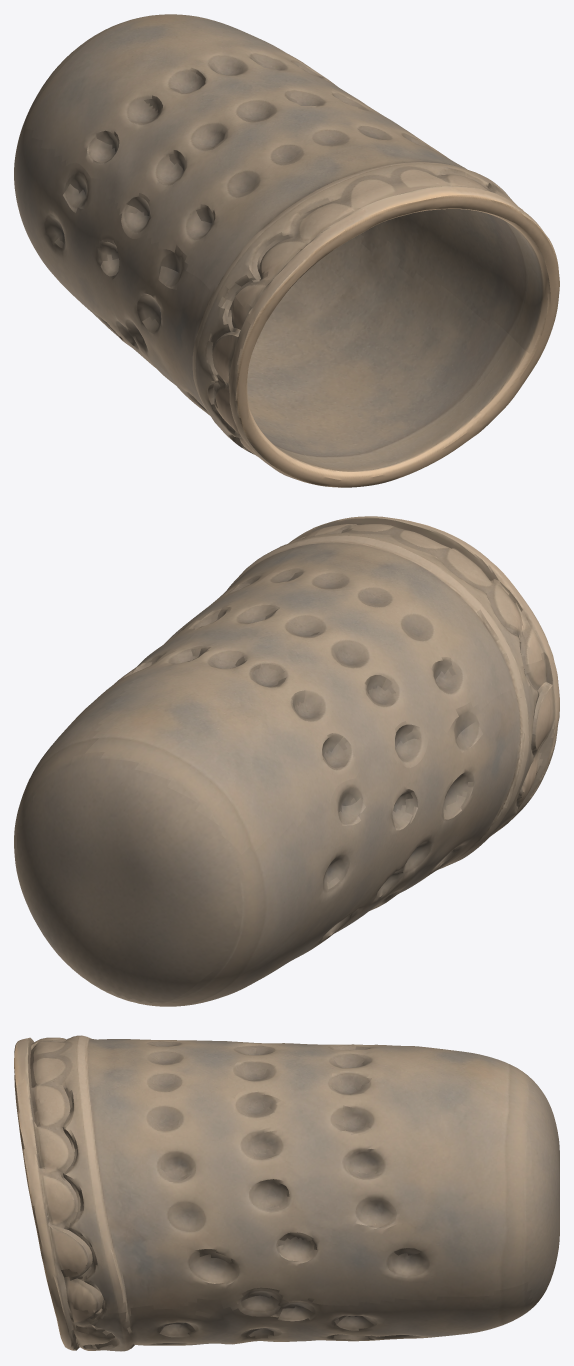
The model's file is Meshy_AI_Antique_Thimble_1122031836_texture.glb.
3 renders of one model, top to bottom at view 1: azimuth 30°, elevation 25°; view 2: azimuth 150°, elevation 25°; view 3: azimuth 270°, elevation 25°, orthographic. The views are drawn at different scales.
Parts seen in each view (by area): view 1: Mesh0; view 2: Mesh0; view 3: Mesh0.
Part boxes in pixels (left/top/right/bottom): Mesh0: left=14, top=14, right=559, bottom=487; Mesh0: left=14, top=516, right=559, bottom=1006; Mesh0: left=14, top=1035, right=559, bottom=1351.
Size of the model in its own units: 1.2 by 1.08 by 1.9.
1 material, 1 textured.
